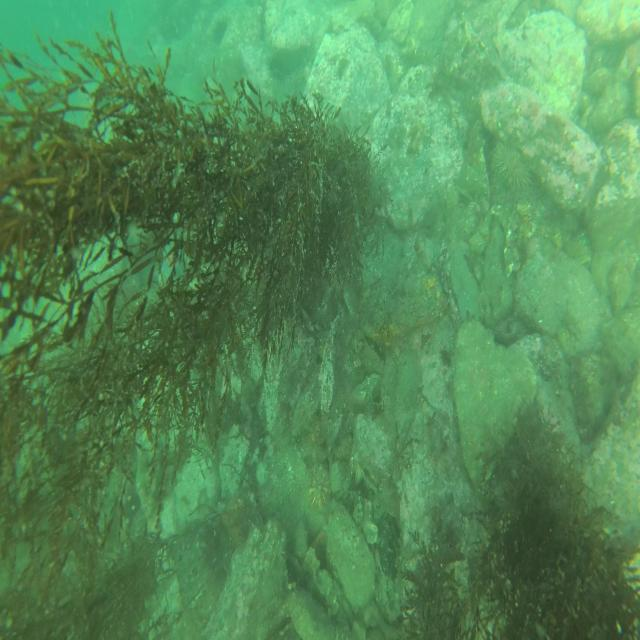echinus: (494, 133, 533, 195), (308, 462, 333, 513), (213, 14, 228, 41)
